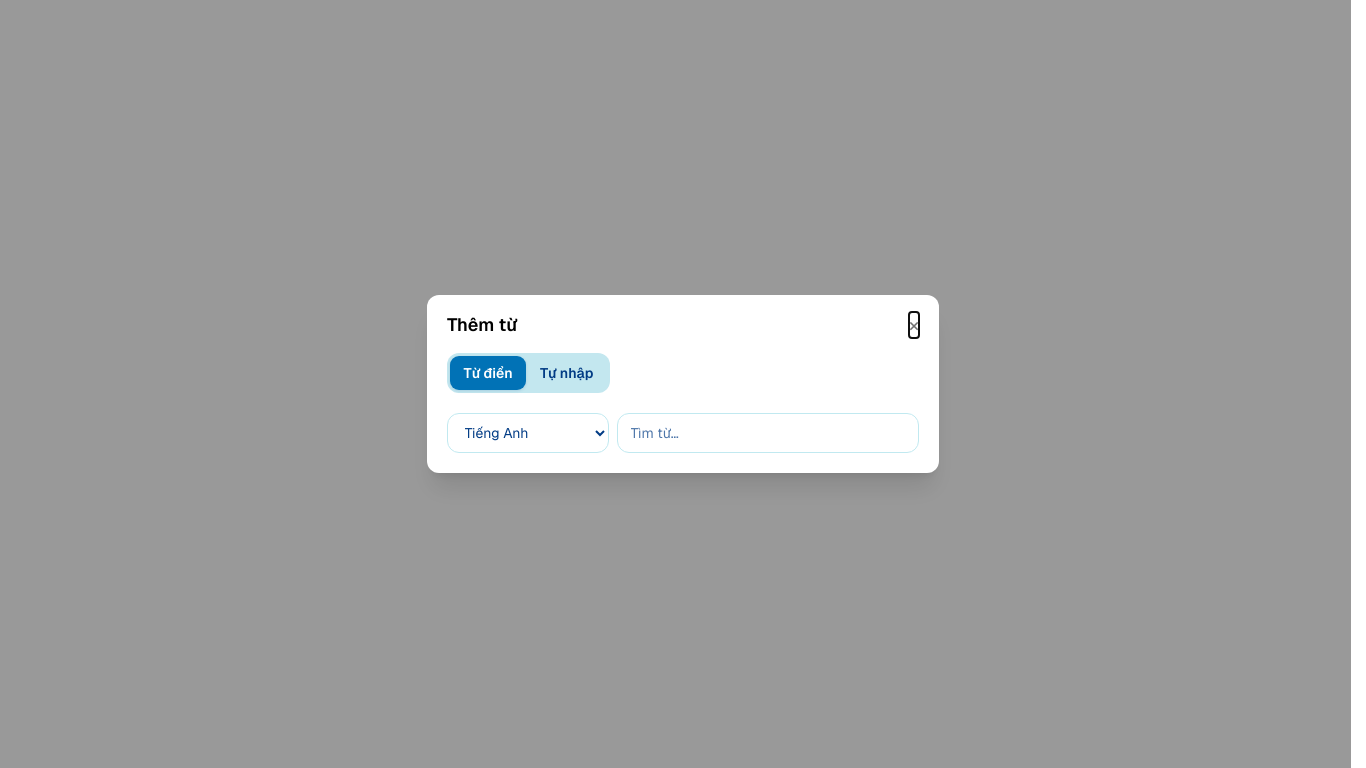
Test case: AddWordDialog › shows an entry once when both directions return it
Step 1. Type "dog" into the field with placeholder "Tìm từ…" → (768, 433), box [617, 413, 919, 453]
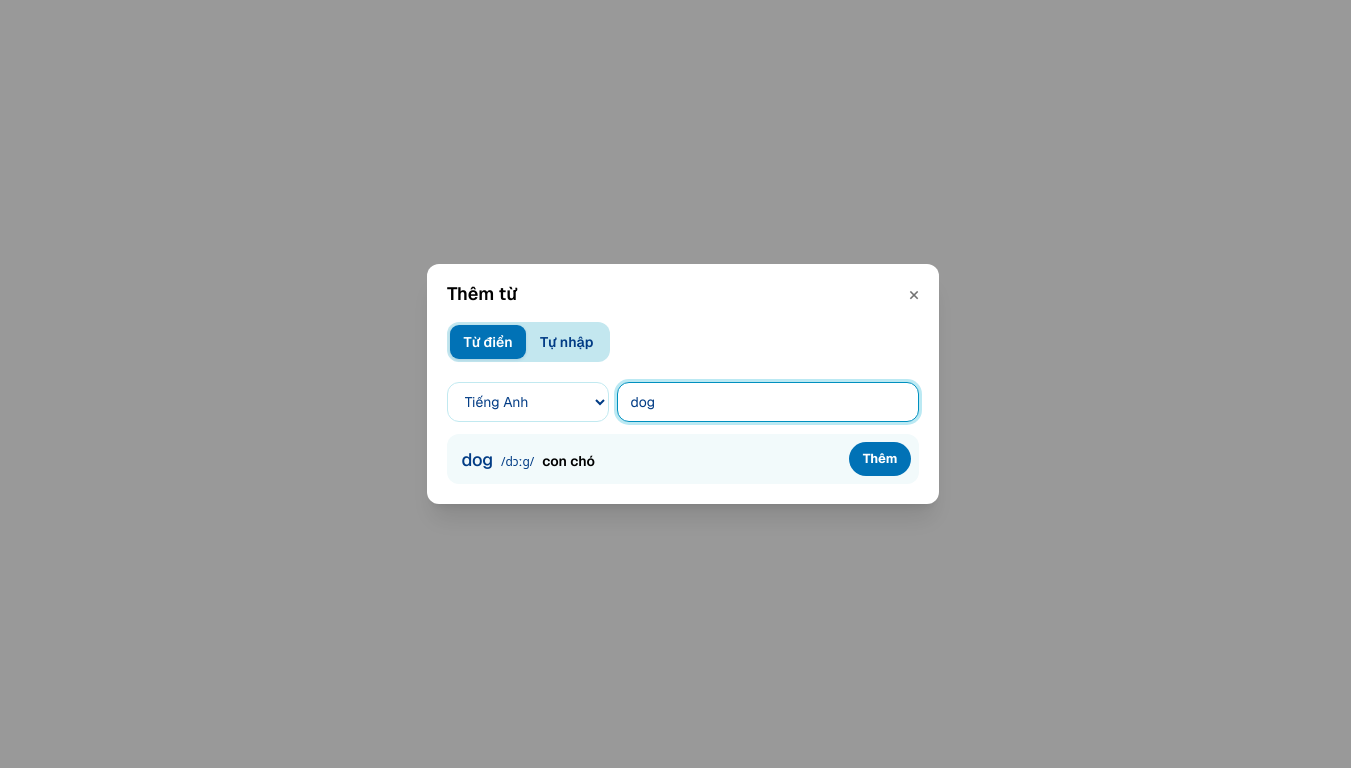
Expected: the text "dog" is shown once, [461, 448, 493, 471]
